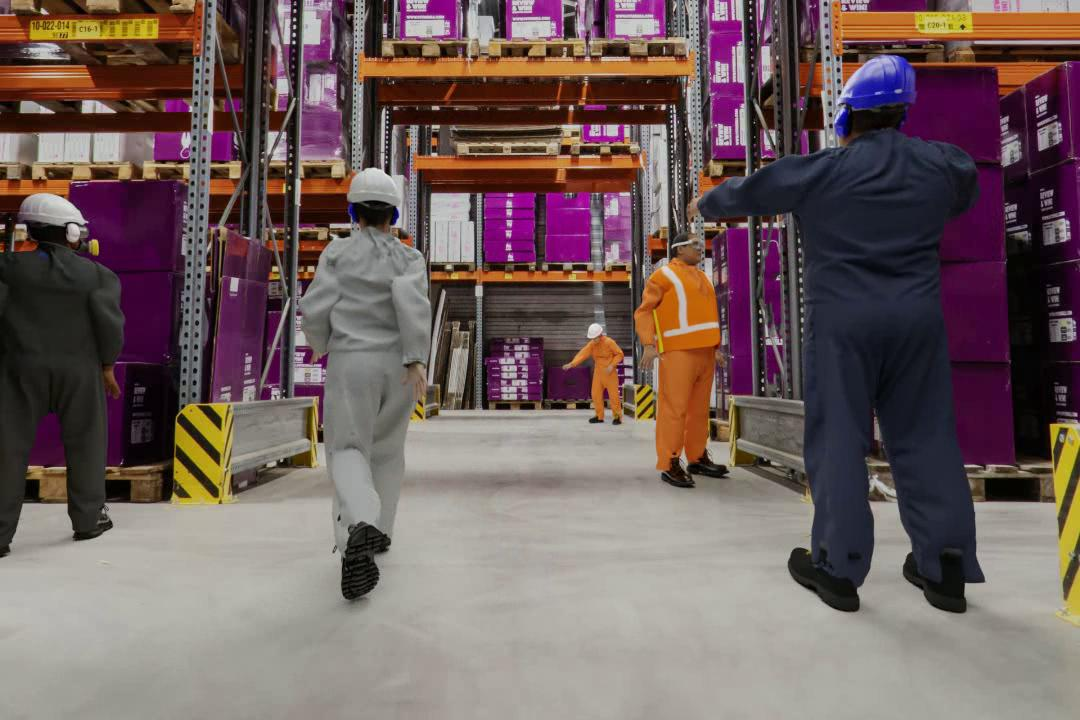Goggles: (668, 238, 707, 253)
Helmet: (818, 51, 921, 107), (347, 139, 432, 199), (17, 186, 92, 229), (584, 324, 602, 342)
Jacket: (643, 265, 723, 348)
Shoes: (782, 542, 865, 627), (313, 533, 381, 612), (900, 539, 974, 609), (690, 443, 733, 479), (656, 456, 694, 489), (610, 409, 625, 433), (583, 410, 604, 424)
